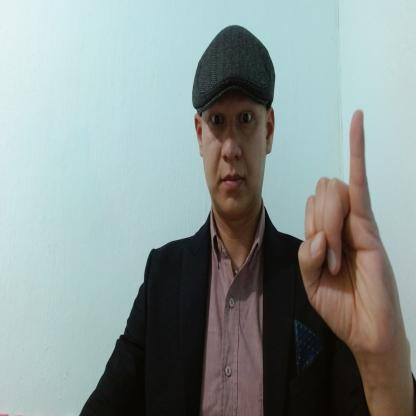I: (297, 107, 401, 359)
